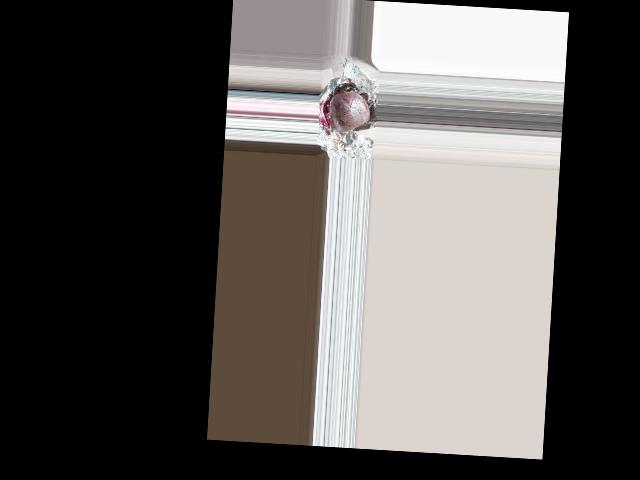beet: (329, 89, 371, 134)
